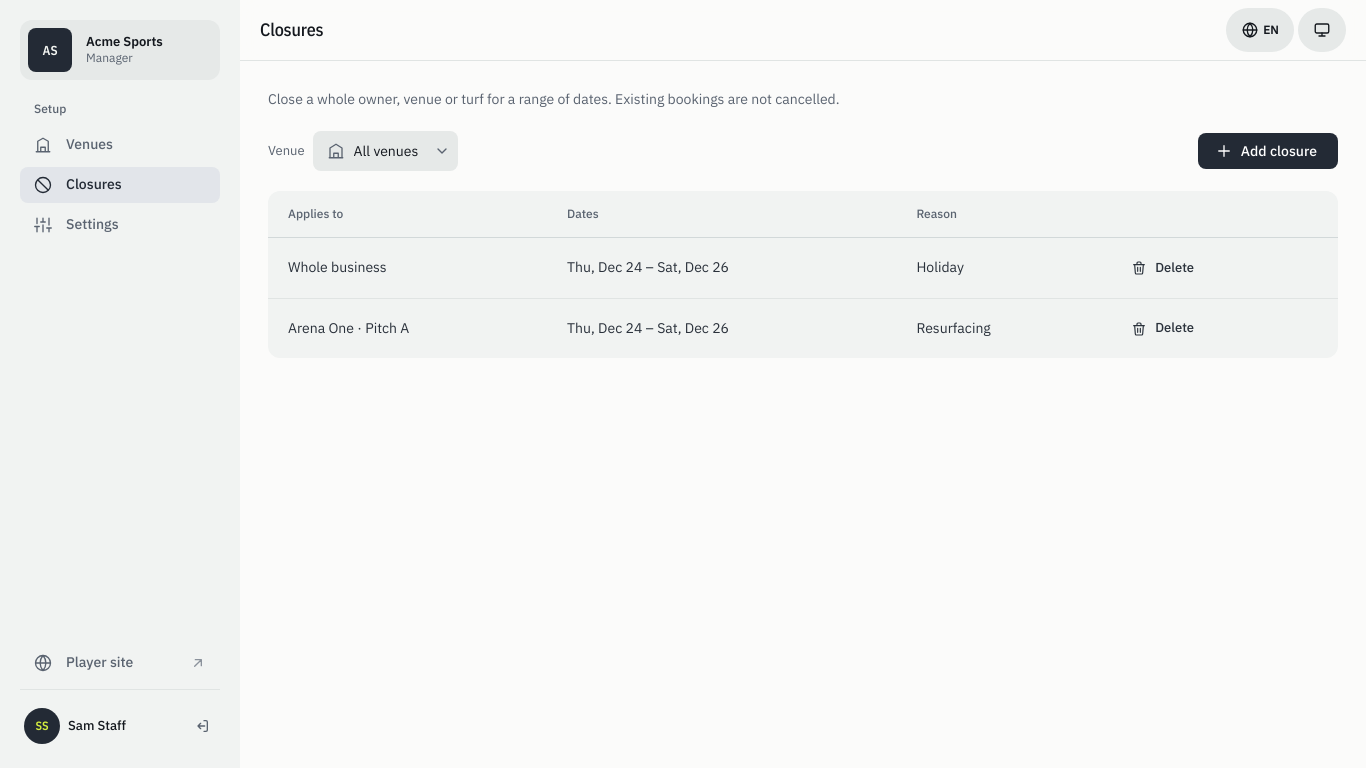
Test case: closures page › deleting a closure removes the row
Expected: the text "Holiday" is shown, [896, 238, 1094, 298]
Expected: the text "Arena One · Pitch A" is shown, [268, 298, 547, 358]
What coordinates should you click on to do the following:
click the button "Delete" in the row of "Whole business"
I would click on:
 (1165, 268)
Its box is [1114, 252, 1215, 284].
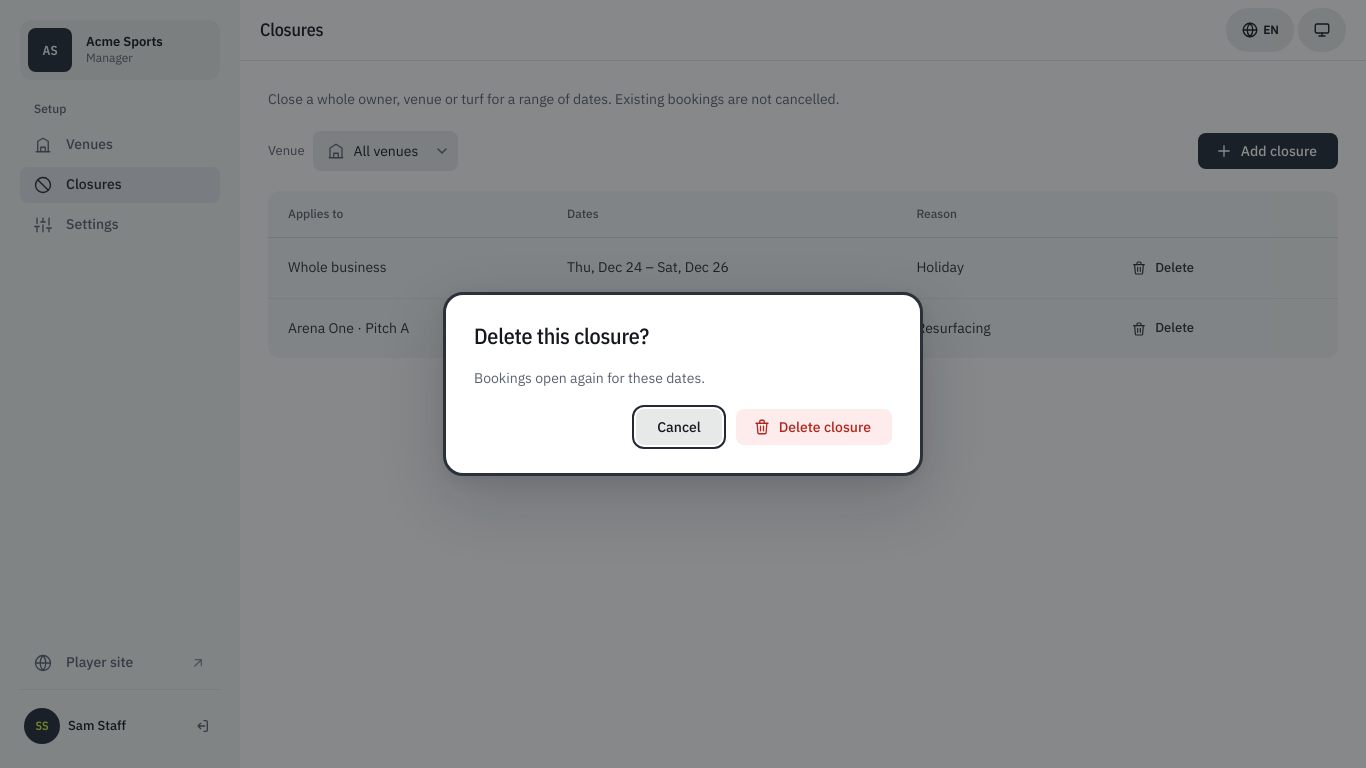
What coordinates should you click on to do the following:
click the button "Delete closure"
I would click on:
 (814, 428)
Its box is [736, 410, 892, 446].
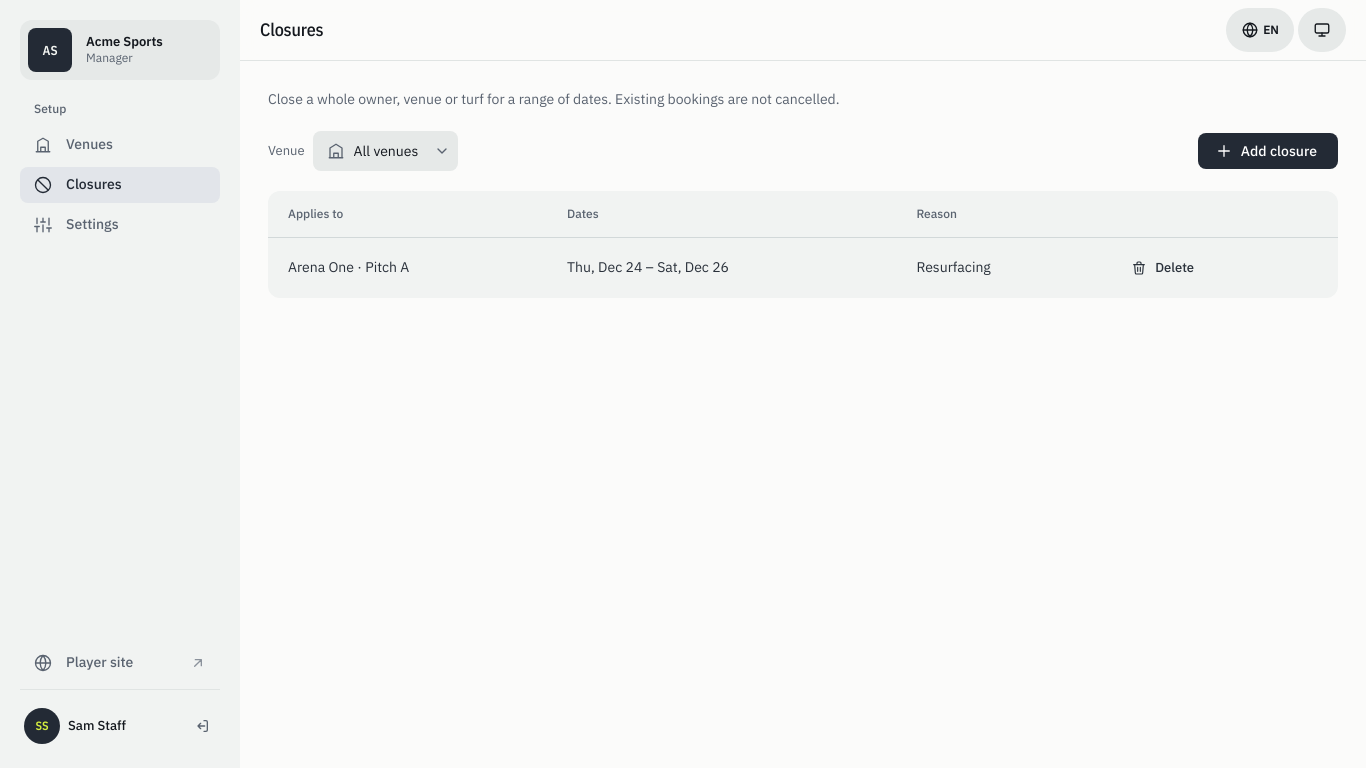
Expected: the text "Resurfacing" is shown, [896, 238, 1094, 298]
Now the text "Holiday" is gone
